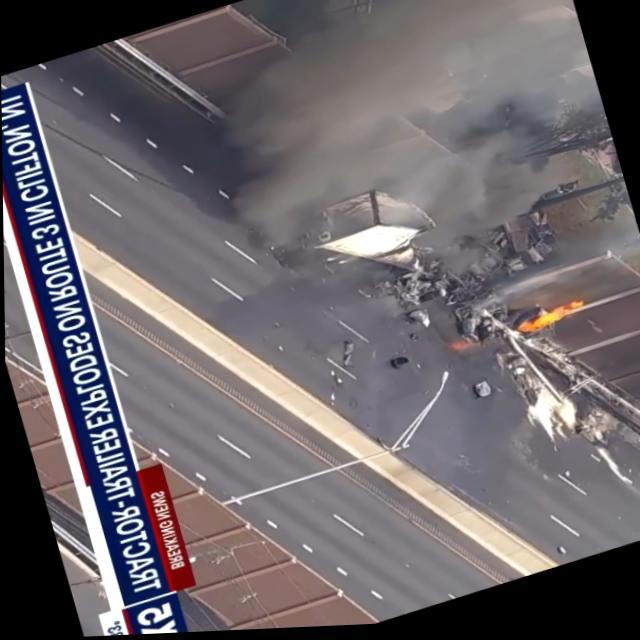fire: (509, 298, 591, 346)
